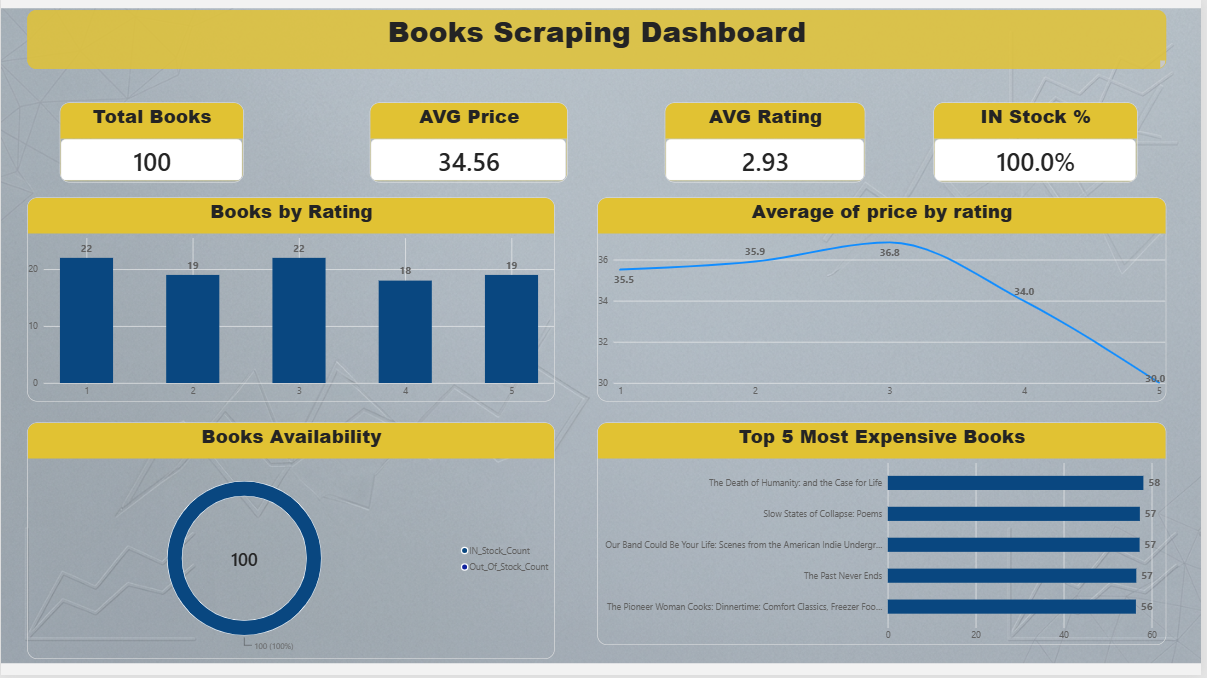

Layout of this report page (visuals, bound fields, positions):
{"tool":"powerbi","page":{"name":"Page 1","canvas":[1920,1080],"ordinal":0},"visuals":[{"type":"cardVisual","title":"AVG Price","fields":{"Data":["Avg(books.price)"]},"box":[590,164,317,127.6],"z":0},{"type":"cardVisual","title":"AVG Rating","fields":{"Data":["Avg(books.rating)"]},"box":[1062,164,321.1,127.6],"z":1000},{"type":"cardVisual","title":"Total Books","fields":{"Data":["books.Total_Books"]},"box":[94,164,294.3,127.6],"z":2000},{"type":"cardVisual","title":"IN Stock %","fields":{"Data":["books.In_Stock_Rate"]},"box":[1492,164,326,128],"z":3000},{"type":"clusteredColumnChart","title":"Books by Rating ","fields":{"Y":["books.Total_Books"],"Category":["books.rating"]},"box":[42,316,844,326],"z":4000},{"type":"lineChart","fields":{"Category":["books.rating"],"Y":["Avg(books.price)"]},"box":[954,316,910,326],"z":5000},{"type":"donutChart","title":"Books Availability","fields":{"Y":["books.IN_Stock_Count","books.Out_Of_Stock_Count"]},"box":[42,676,844,378],"z":6000},{"type":"clusteredBarChart","title":"Top 5 Most Expensive Books","fields":{"Category":["books.title"],"Y":["Sum(books.price)"]},"box":[954,676,910,356],"z":7000},{"type":"textbox","title":"Books Scraping Dashboard","box":[42,16,1822,94],"z":8000}]}

Visuals, with their boxes in screenshot pixels (x1, y1, x2, y2), scaled from the page's 1920x1080 canvas onto the 1207x678 screenshot:
"AVG Price" cardVisual: <bbox>371, 103, 570, 183</bbox>
"AVG Rating" cardVisual: <bbox>668, 103, 869, 183</bbox>
"Total Books" cardVisual: <bbox>59, 103, 244, 183</bbox>
"IN Stock %" cardVisual: <bbox>938, 103, 1143, 183</bbox>
"Books by Rating " clusteredColumnChart: <bbox>26, 198, 557, 403</bbox>
lineChart - books.rating x Avg(books.price): <bbox>600, 198, 1172, 403</bbox>
"Books Availability" donutChart: <bbox>26, 424, 557, 662</bbox>
"Top 5 Most Expensive Books" clusteredBarChart: <bbox>600, 424, 1172, 648</bbox>
"Books Scraping Dashboard" textbox: <bbox>26, 10, 1172, 69</bbox>
